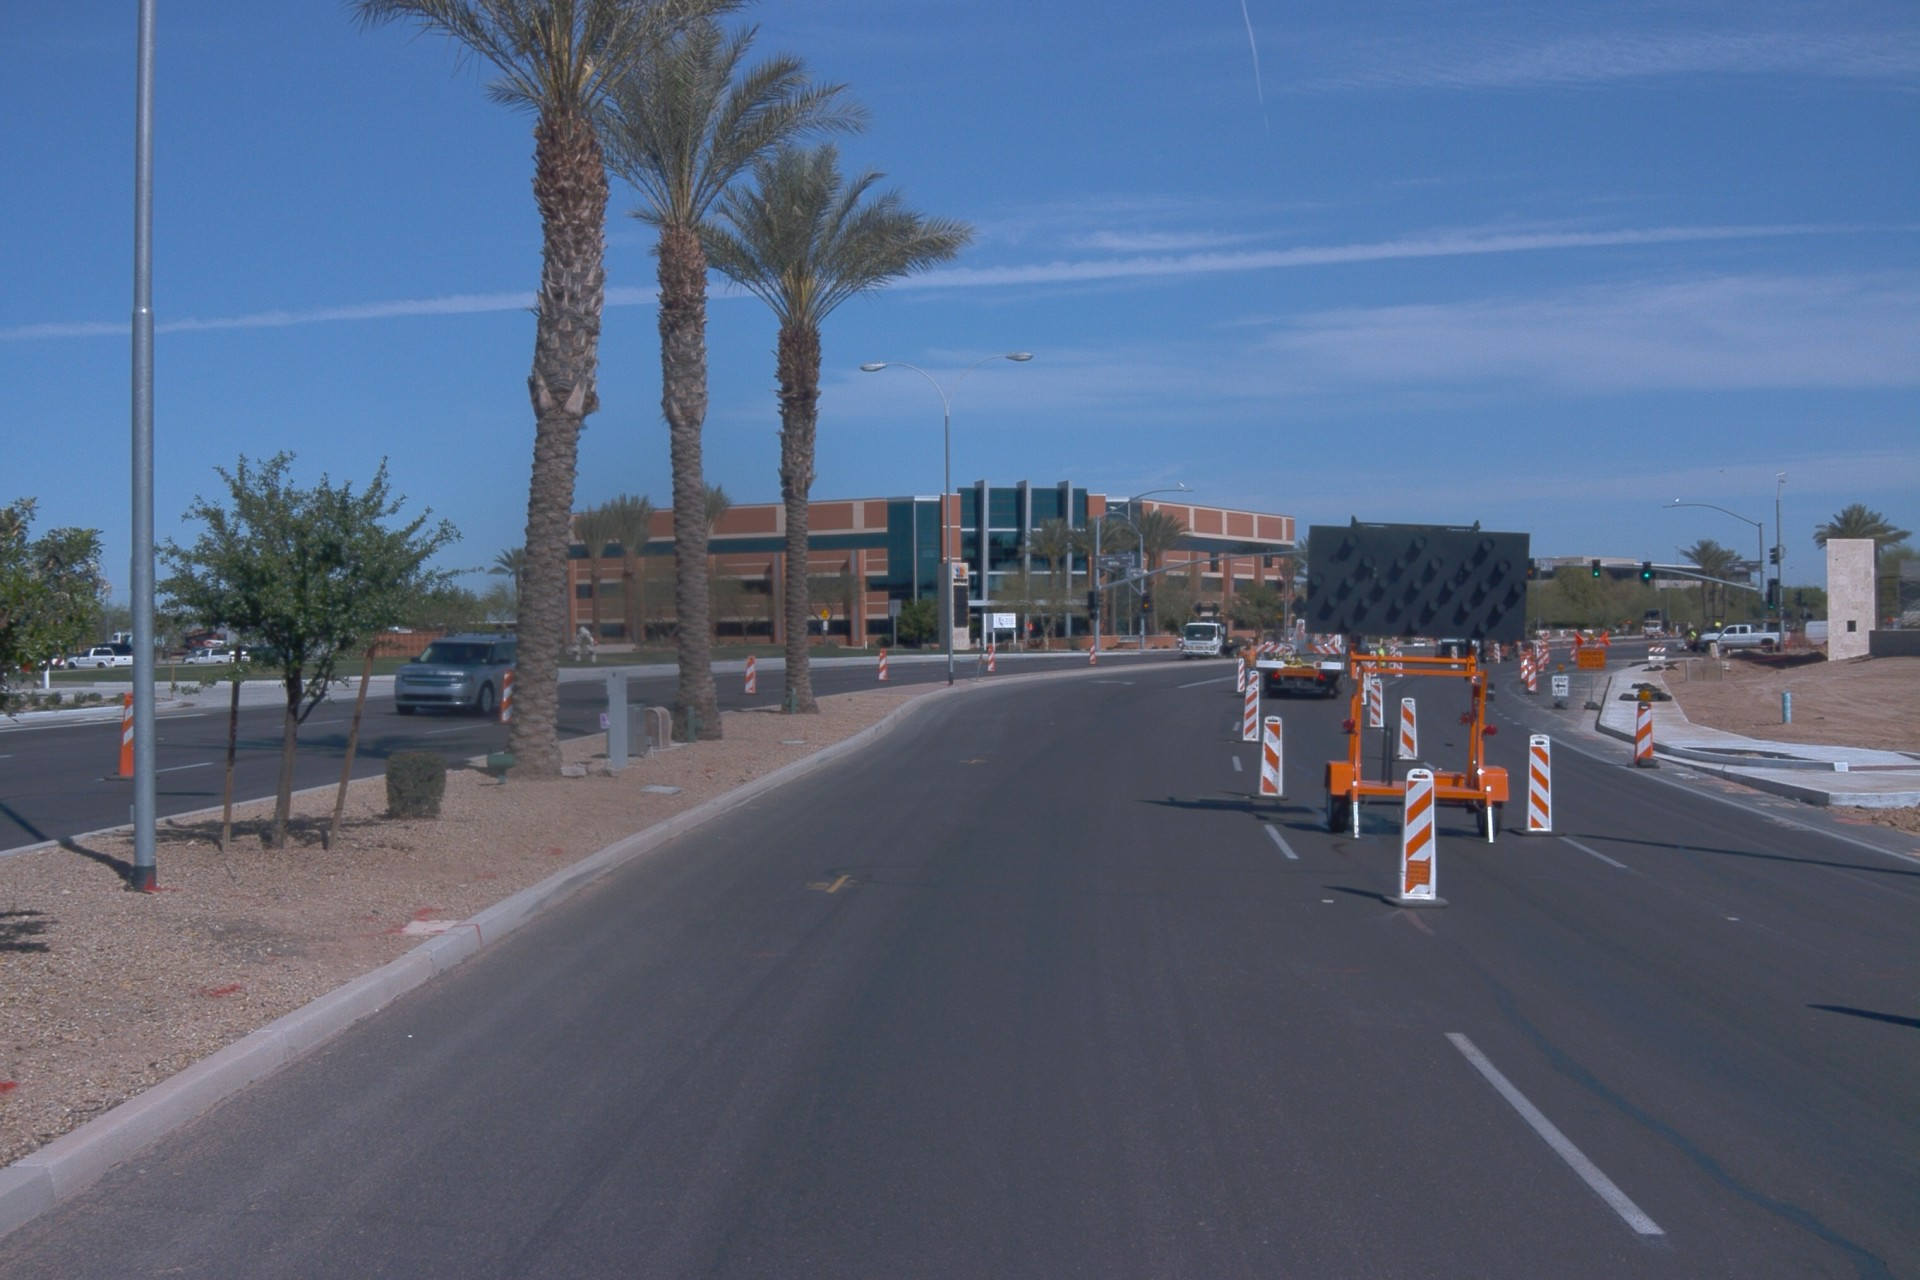TYPE_PEDESTRIAN: (1237, 639, 1259, 688), (1377, 640, 1390, 683)
TYPE_VEHICLE: (1303, 506, 1560, 852), (1243, 598, 1353, 702), (394, 632, 521, 718), (1176, 617, 1253, 663), (1695, 619, 1789, 654), (1432, 639, 1525, 663), (60, 644, 137, 671), (177, 644, 251, 667), (1641, 616, 1680, 641), (216, 637, 253, 652), (1356, 642, 1372, 655)
